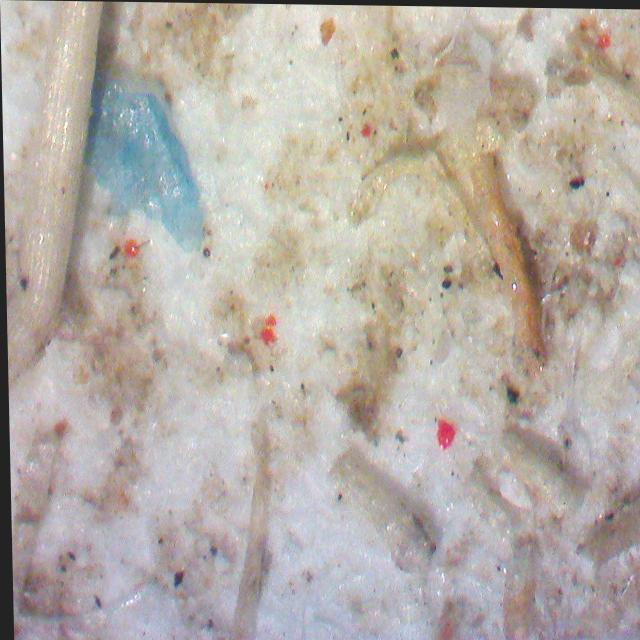microplastic: (85, 72, 201, 252)
